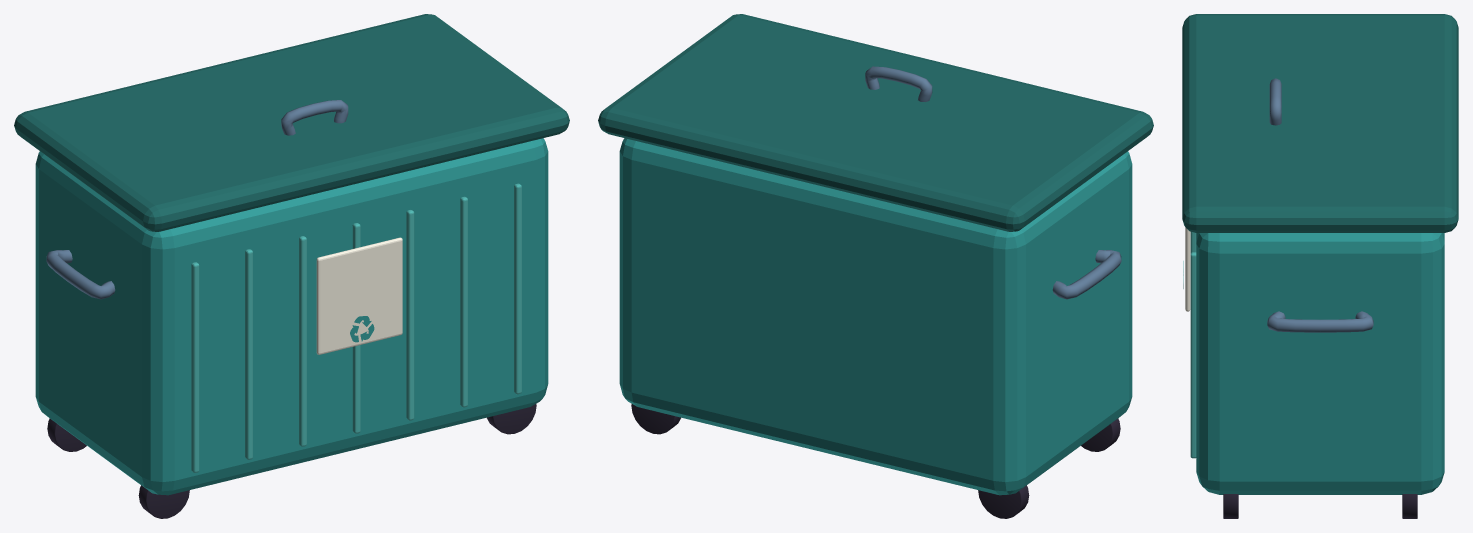
File: municipal_bin.glb
The picture shows the model from 3 angles, left to right: view 1: azimuth 30°, elevation 25°; view 2: azimuth 150°, elevation 25°; view 3: azimuth 270°, elevation 25°; orthographic projection. The views are drawn at different scales.
Parts seen in each view (by area): view 1: Tapered_body, Hinged_lid, Recycling_badge, Reinforcing_rib.004, Reinforcing_rib, Reinforcing_rib.006, Reinforcing_rib.001, Reinforcing_rib.002, Reinforcing_rib.005, Side_lifting_handle, Lid_handle, Rubber_wheel.001 (+3 smaller); view 2: Tapered_body, Hinged_lid, Side_lifting_handle, Lid_handle, Rubber_wheel, Rubber_wheel.002, Rubber_wheel.001; view 3: Tapered_body, Hinged_lid, Side_lifting_handle.001, Reinforcing_rib.006, Lid_handle, Recycling_badge, Rubber_wheel.002, Rubber_wheel.003.
Boxes of the visible parts, x1,y1,x2,y2 form: Tapered_body: (35,138,548,495); Hinged_lid: (14,14,569,231); Recycling_badge: (316,237,402,354); Reinforcing_rib.004: (406,210,414,420); Reinforcing_rib: (191,262,199,472); Reinforcing_rib.006: (514,183,521,394); Reinforcing_rib.001: (245,249,252,459); Reinforcing_rib.002: (299,236,306,446); Reinforcing_rib.005: (460,196,467,407); Side_lifting_handle: (46,250,115,299); Lid_handle: (281,100,348,135); Rubber_wheel.001: (138,485,189,518); Tapered_body: (619,138,1132,495); Hinged_lid: (598,14,1153,231); Side_lifting_handle: (1052,250,1121,299); Lid_handle: (865,66,932,101); Rubber_wheel: (978,485,1029,518); Rubber_wheel.002: (631,404,680,434); Rubber_wheel.001: (1081,418,1120,451); Tapered_body: (1196,233,1444,494); Hinged_lid: (1182,14,1458,232); Side_lifting_handle.001: (1267,311,1373,332); Reinforcing_rib.006: (1190,252,1196,458); Lid_handle: (1269,78,1281,125); Recycling_badge: (1185,227,1190,311); Rubber_wheel.002: (1402,494,1417,518); Rubber_wheel.003: (1223,494,1238,518).
Size of the model in its own units: 1.85 by 1.38 by 1.
